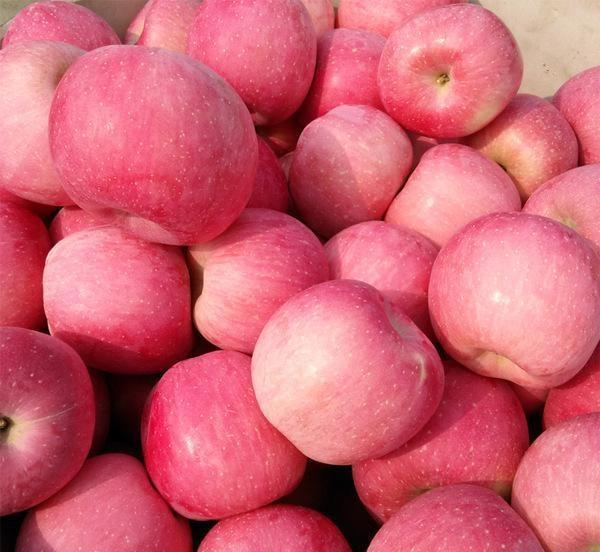apple: (45, 43, 254, 243), (247, 278, 444, 465), (427, 213, 600, 392), (353, 359, 531, 520), (141, 349, 307, 518), (1, 1, 118, 205), (42, 225, 193, 377), (183, 205, 331, 352), (377, 3, 523, 138), (1, 325, 96, 513), (187, 1, 316, 135), (16, 454, 187, 552), (290, 104, 412, 234), (380, 144, 523, 249), (324, 220, 440, 341), (460, 93, 578, 206), (508, 414, 600, 551), (366, 488, 546, 551), (300, 28, 386, 123), (193, 506, 354, 552), (523, 165, 600, 249), (553, 66, 600, 163)
